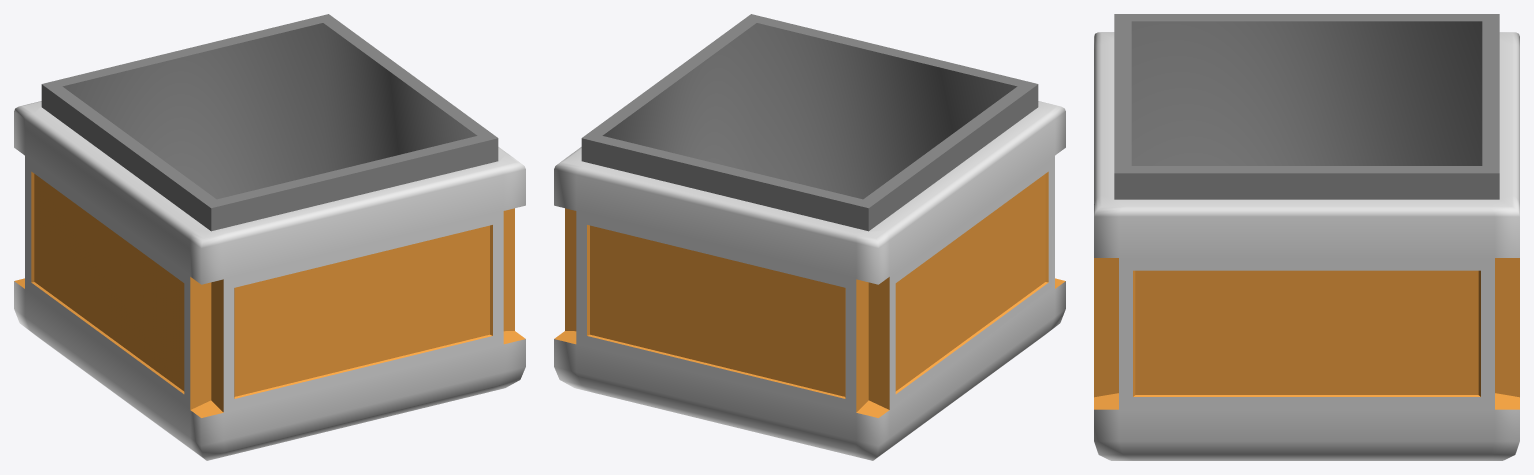
The model's file is Crate_Bottom 1.fbx.
3 renders of one model, left to right at view 1: azimuth 30°, elevation 25°; view 2: azimuth 150°, elevation 25°; view 3: azimuth 270°, elevation 25°, orthographic. The views are drawn at different scales.
Visible parts, largest first — view 1: Cube.001; view 2: Cube.001; view 3: Cube.001.
Boxes of the visible parts, box(x1,y1,x2,y2) form: Cube.001: box(14, 14, 525, 460); Cube.001: box(554, 14, 1065, 460); Cube.001: box(1094, 14, 1519, 460).
Size of the model in its own units: 0.9385 by 0.7021 by 0.9385.
